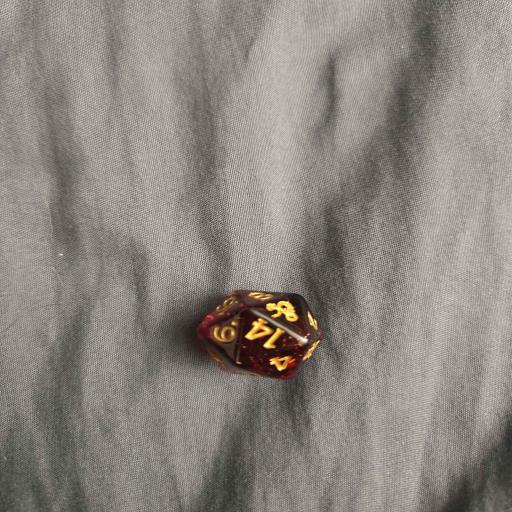twenty sided dice: (195, 289, 322, 380)
